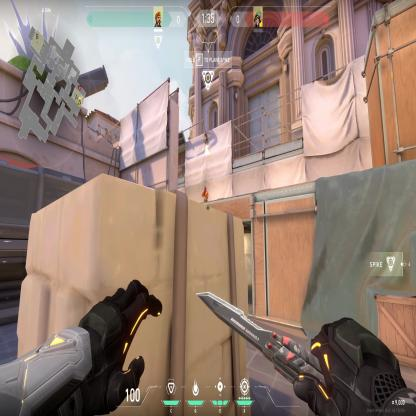enemy: (202, 184, 209, 202)
